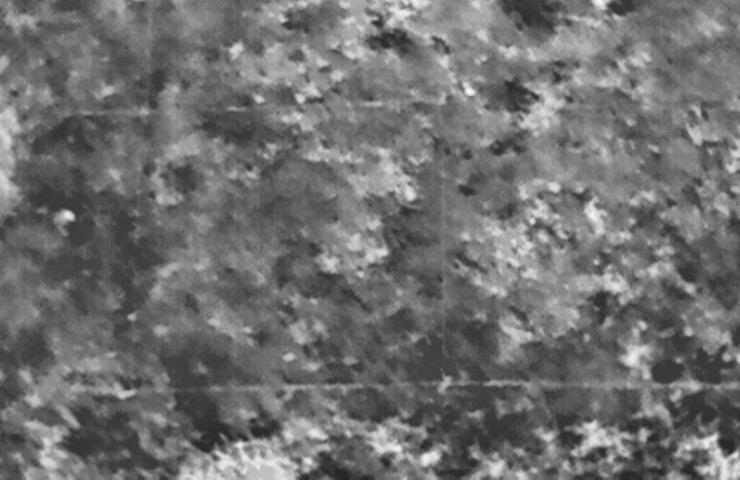landmines: (582, 198, 613, 230)
